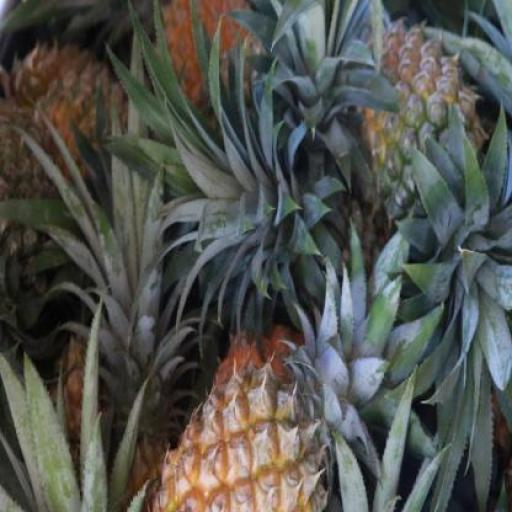------------------------------: (351, 18, 490, 228)
Pineapple - v8 v1: (149, 346, 327, 511)
